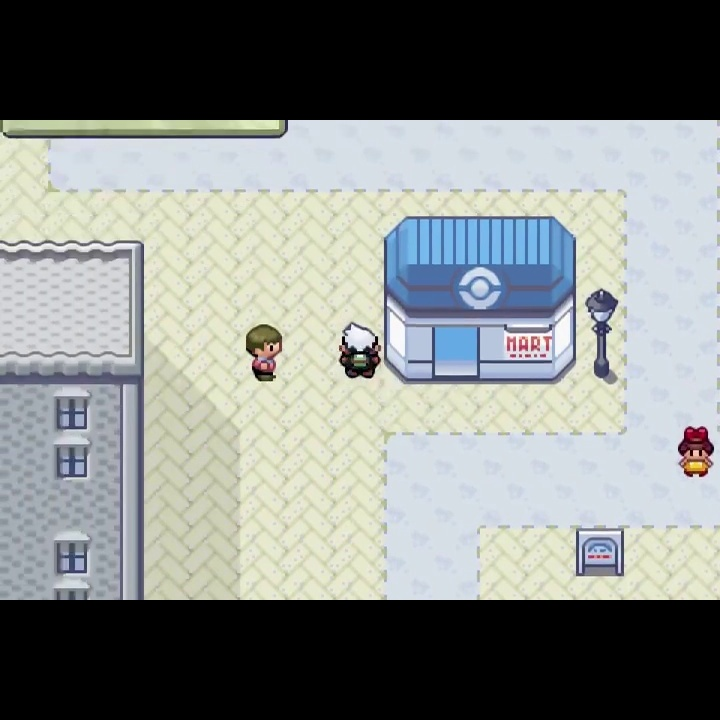house: (1, 238, 148, 601)
npc: (337, 319, 384, 384), (243, 321, 286, 387), (674, 423, 717, 480)
pokemart: (381, 211, 579, 386)
